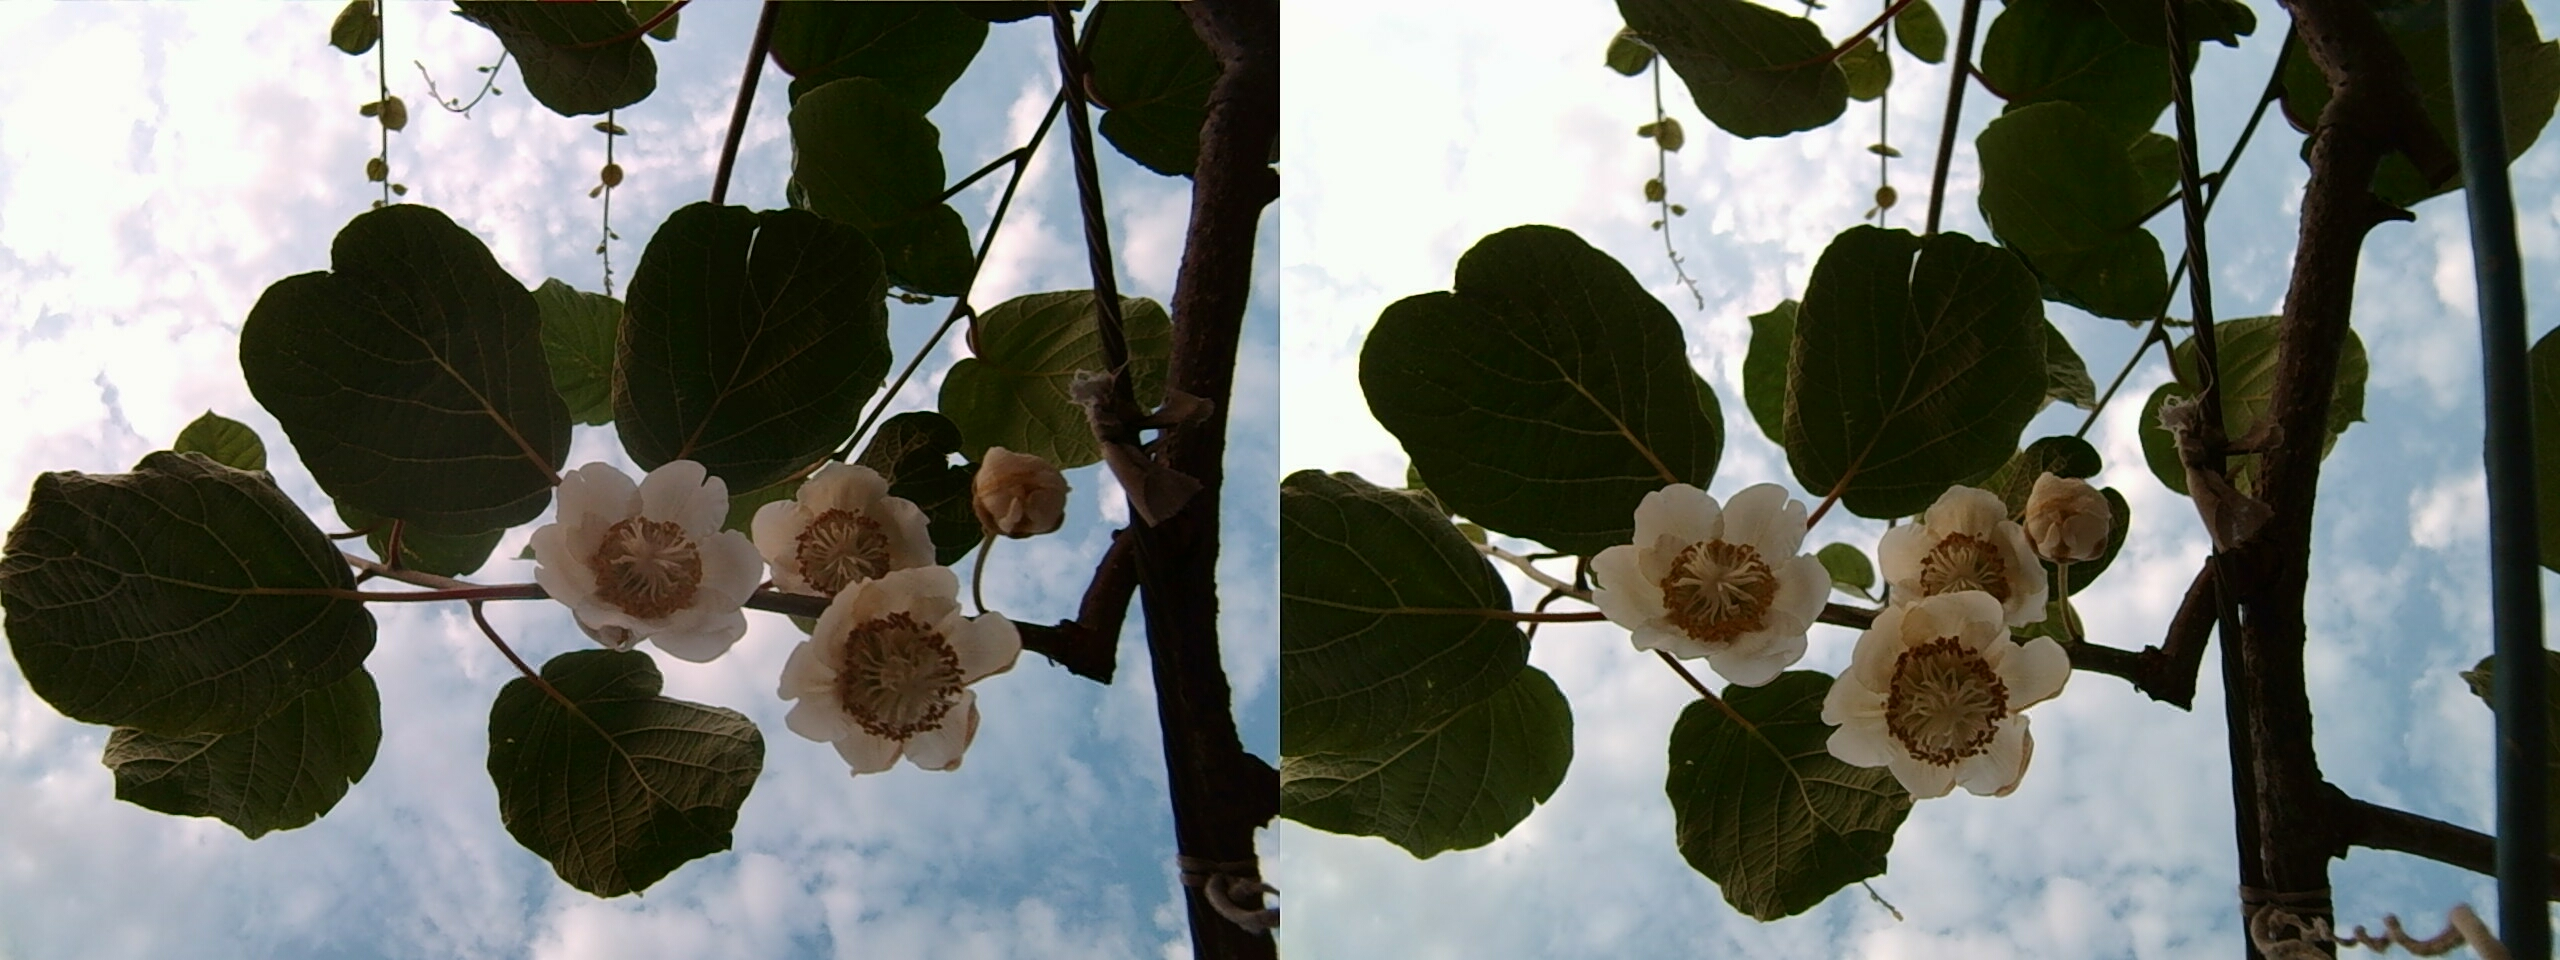flower: (766, 557, 1016, 779), (1584, 469, 1833, 681), (1819, 581, 2062, 793), (529, 442, 762, 655), (740, 457, 931, 607), (1866, 478, 2057, 625), (2010, 469, 2114, 591)
